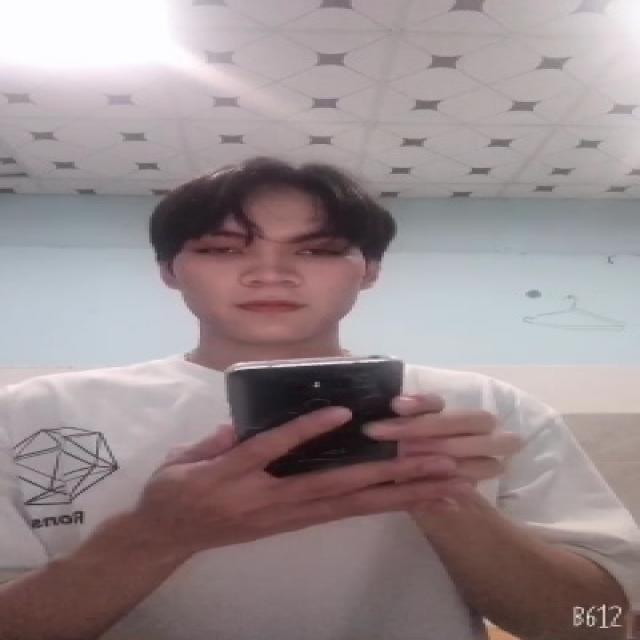Phone: (226, 352, 409, 474)
